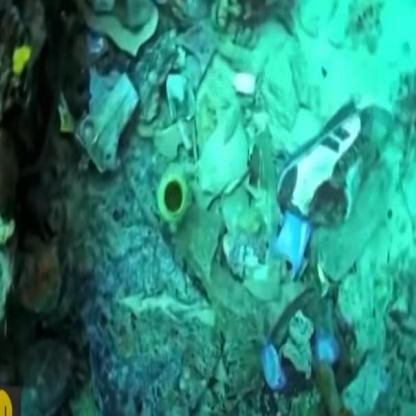misc: (283, 81, 370, 250), (154, 171, 204, 221)
